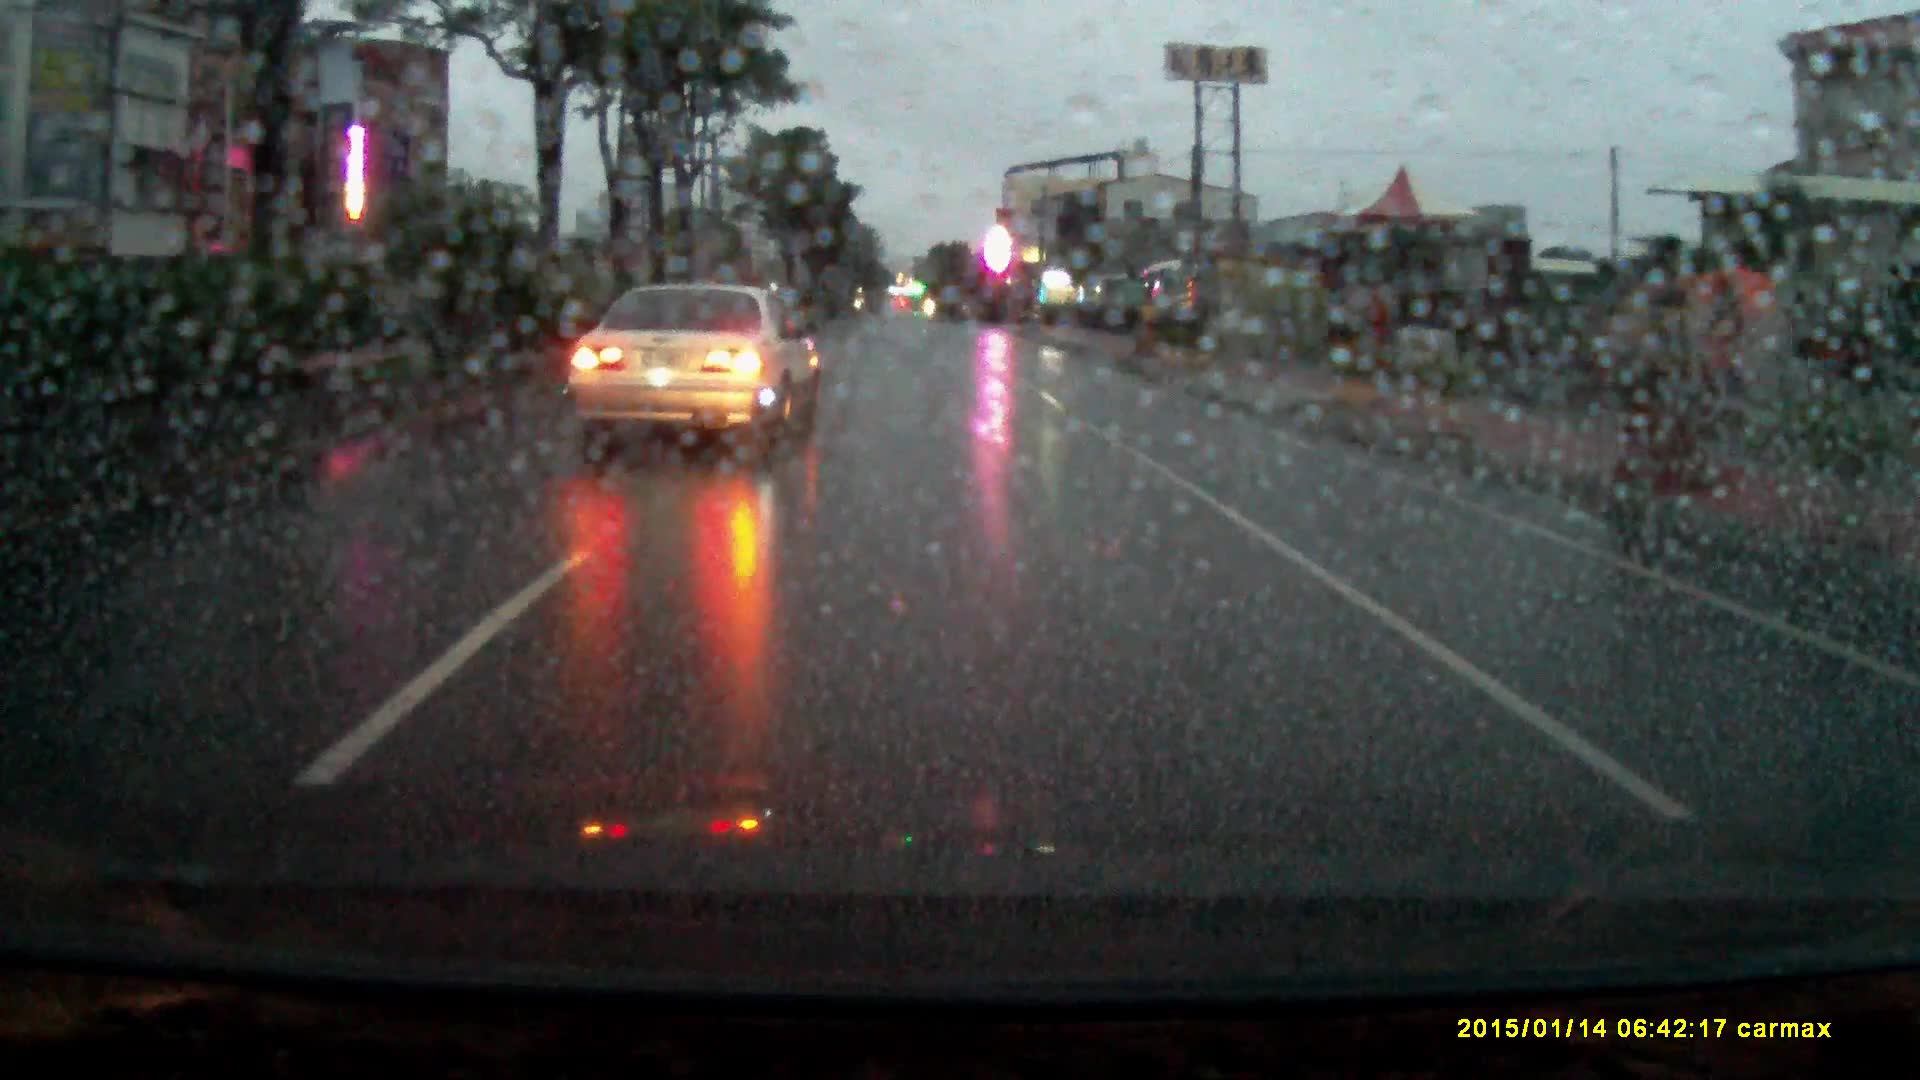pedestrian: (1682, 263, 1784, 500)
vehicle: (560, 286, 826, 464), (1084, 276, 1136, 315)
